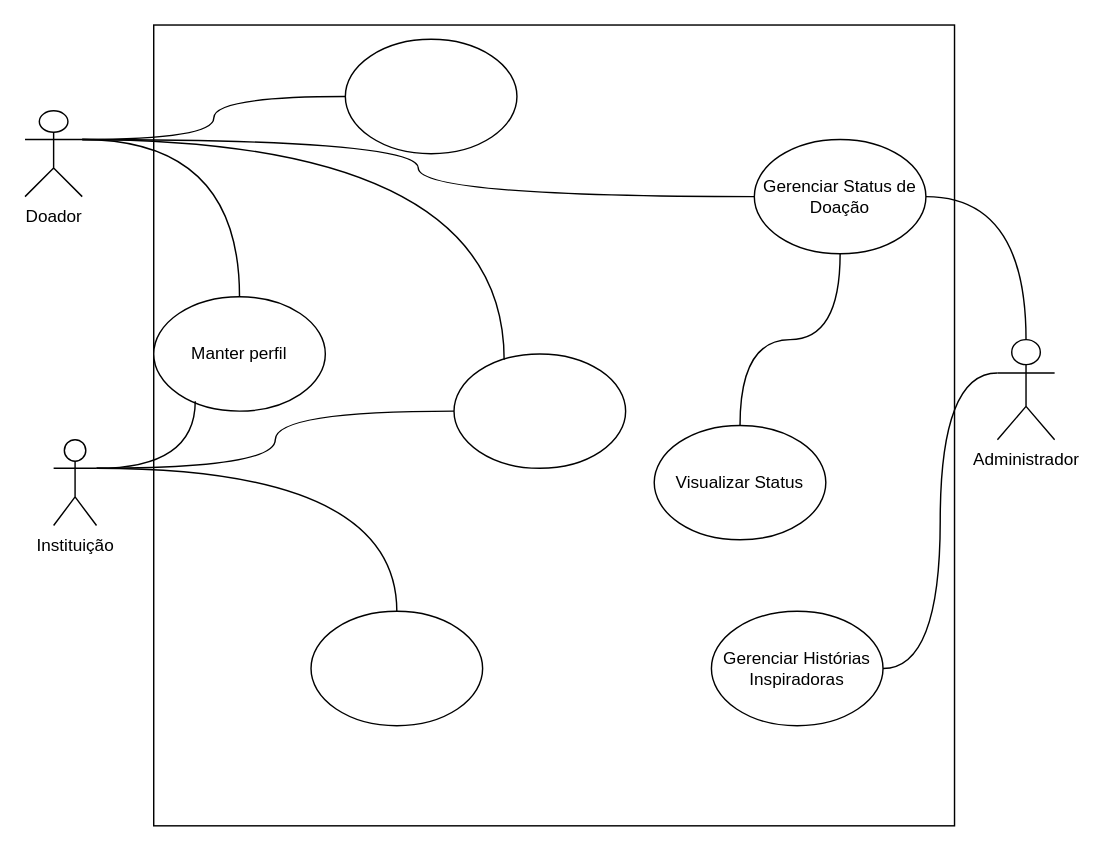
The diagram is 1104 pixels wide and 851 high, and some of its shapes have lost their labels. The box of each missing label's shape, as (x1, y1, x2, y2) in pixels:
Editar Histórias Inspiradoras: (453, 352, 626, 468)
Fazer Doação: (344, 38, 517, 154)
Receber Doações: (310, 610, 483, 726)
